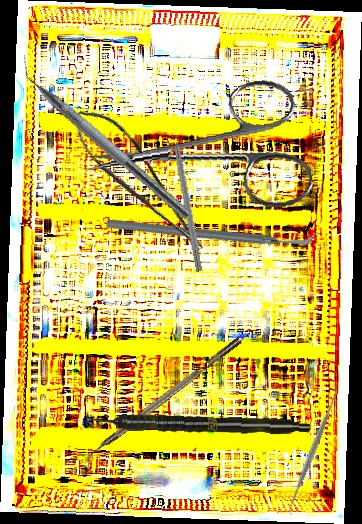Chopper: (104, 140, 321, 321), (8, 51, 203, 221), (78, 336, 249, 471)
Handpiece: (86, 410, 311, 437)
Hook Surgical: (169, 124, 205, 273)
Iris Scissors: (78, 75, 315, 231)
Micro Scissor: (64, 94, 209, 272)
Spatula Surgical: (280, 382, 346, 517)
